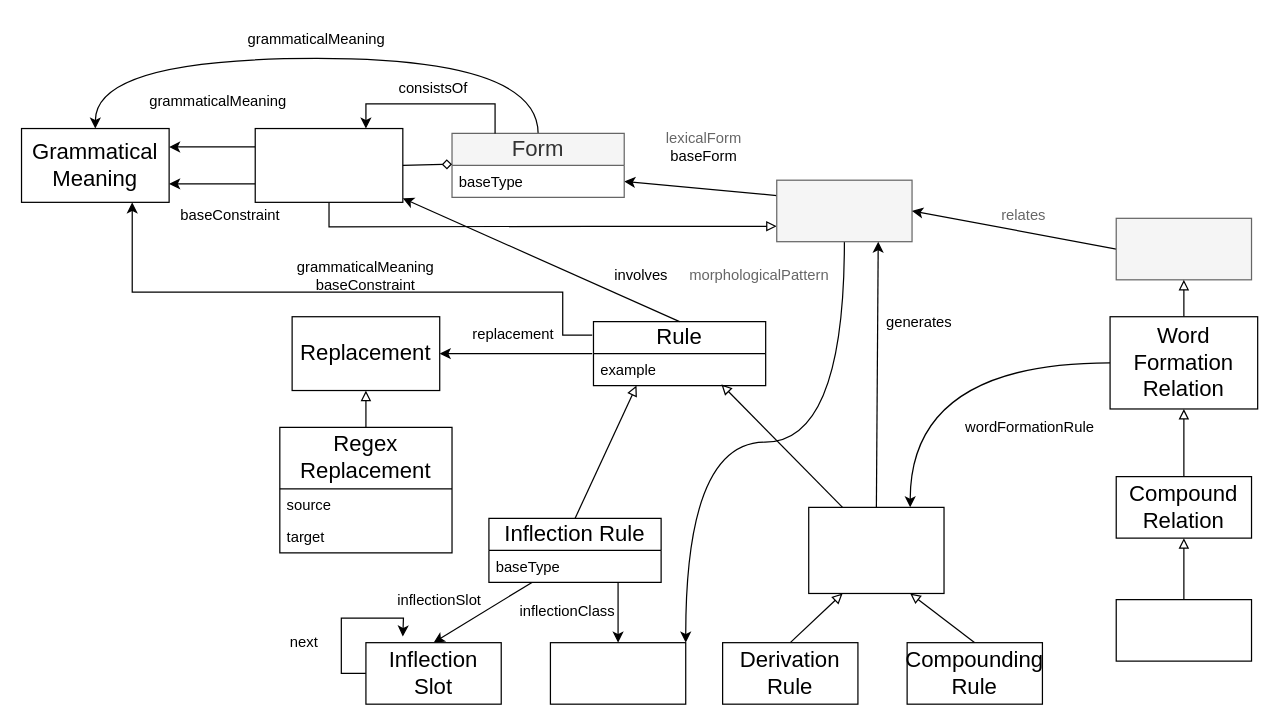
Some shapes in this 1279 by 726 pixel diagram are drawn without their labels. The centre of each missing label's shape, as x and y in pixels:
"Compound Head" goes at point (1183, 629).
"Inflection Class" goes at point (617, 672).
"Lexical Entry" goes at point (844, 210).
"Lexical Relation" goes at point (1183, 248).
"Morph" goes at point (328, 164).
"Word Formation Rule" goes at point (875, 549).
